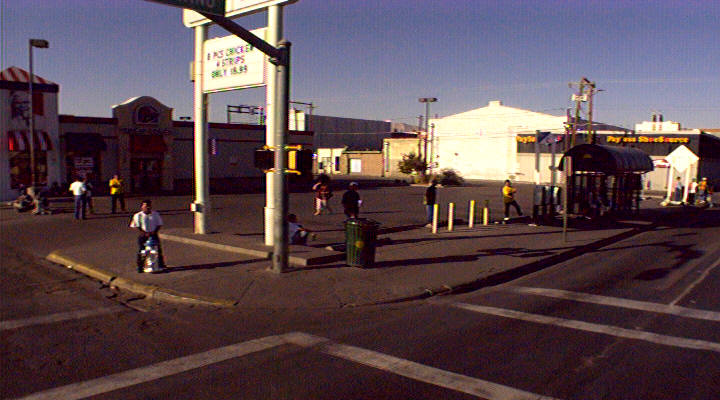Ramp: (201, 259, 446, 315)
